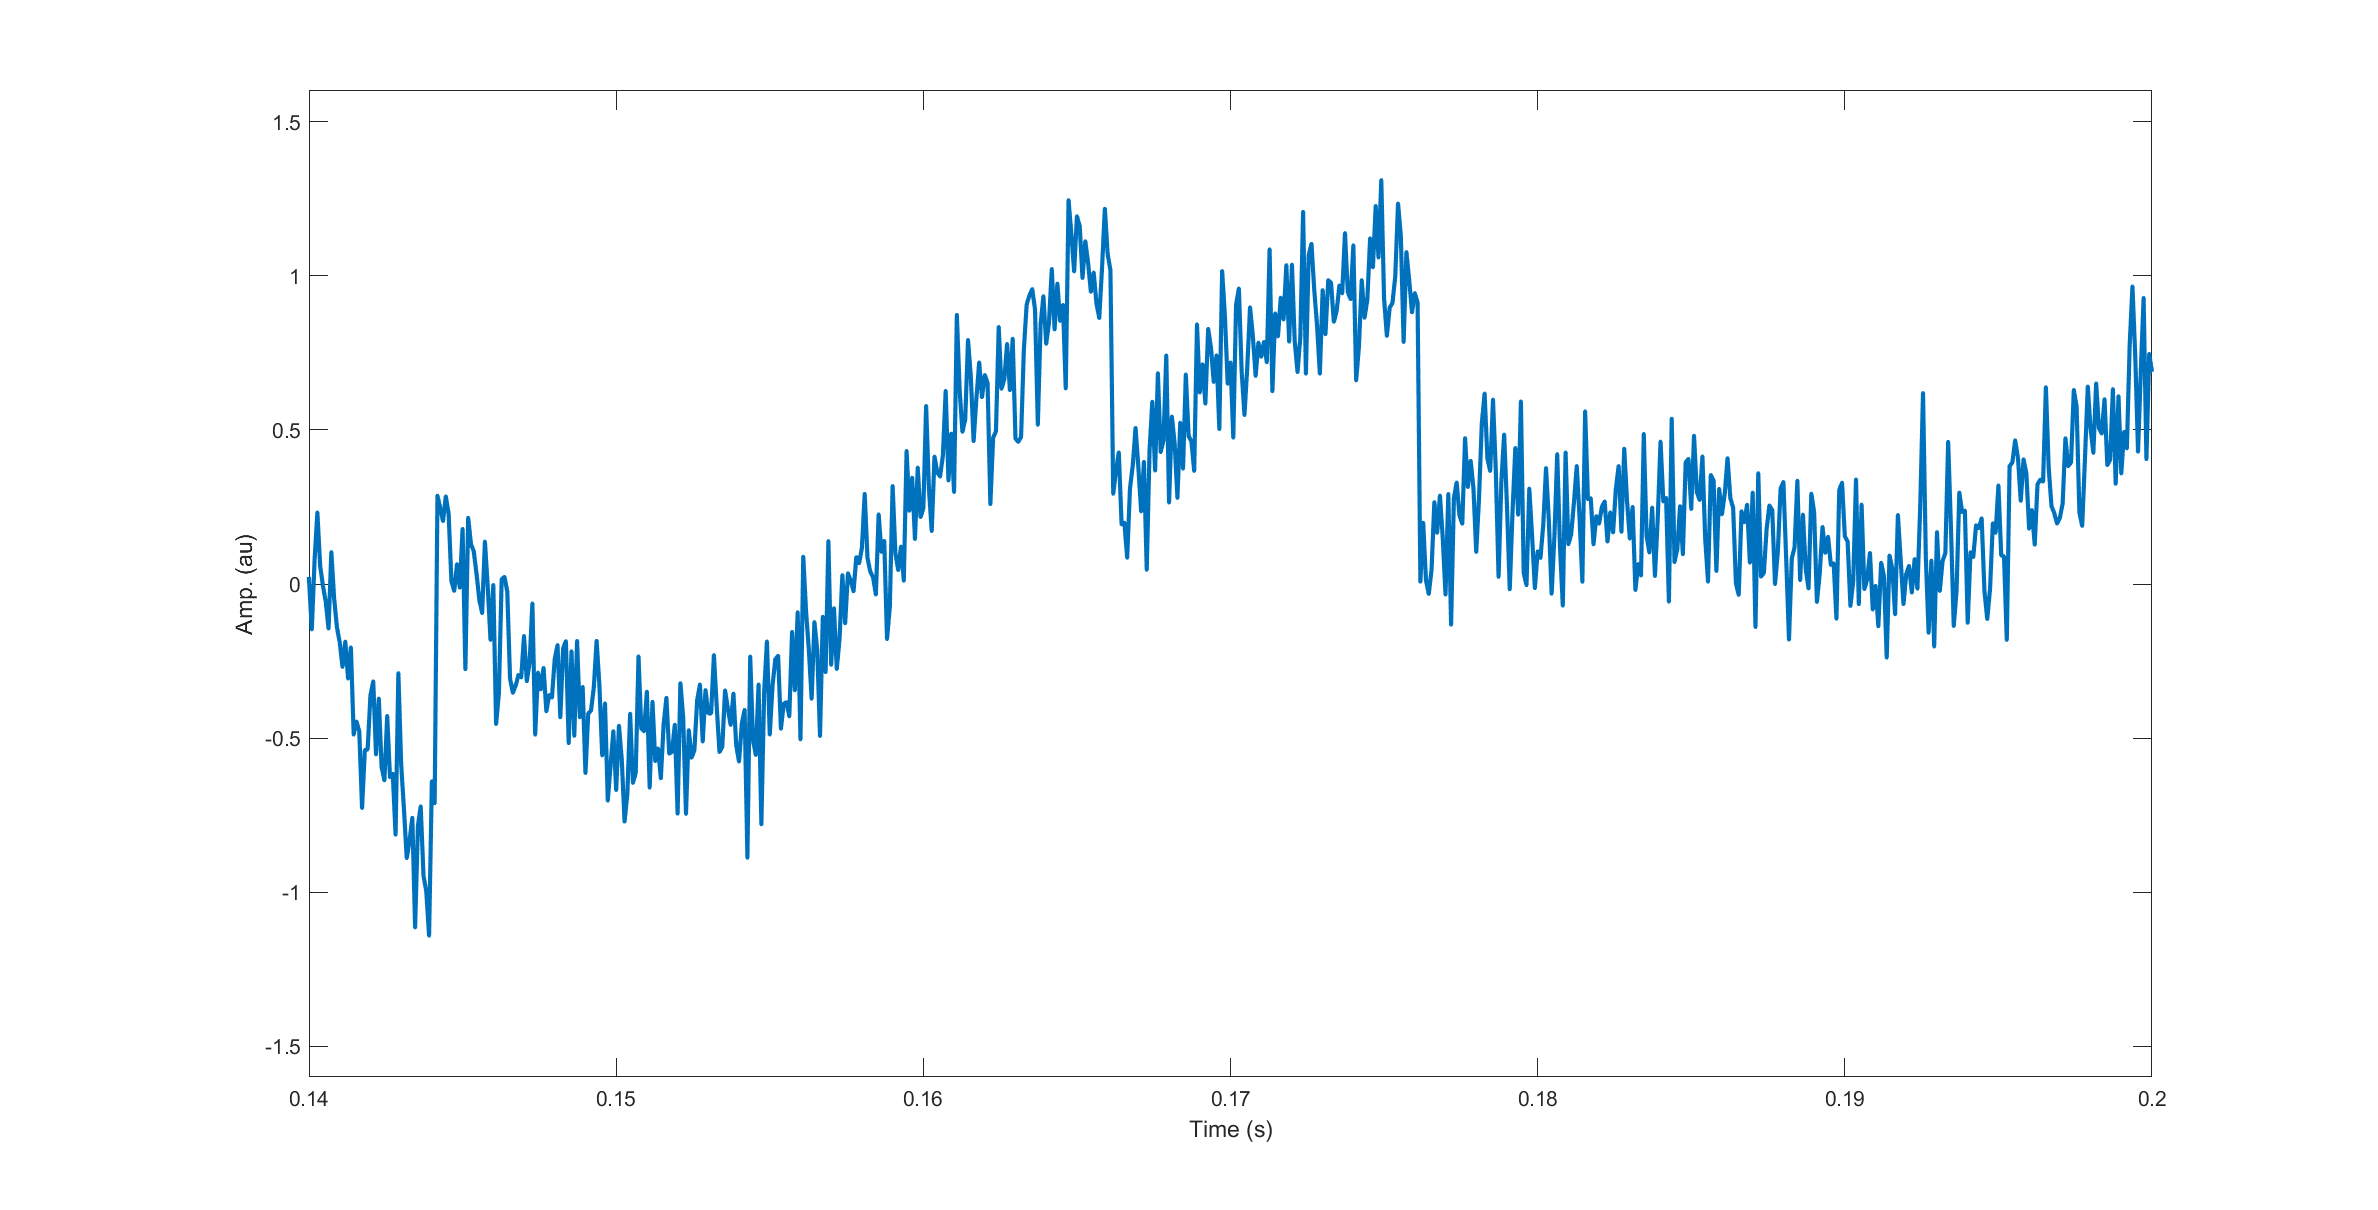negative_fringe: (424, 465, 585, 934)
positive_fringe: (1140, 161, 1438, 600), (927, 179, 1123, 559)
